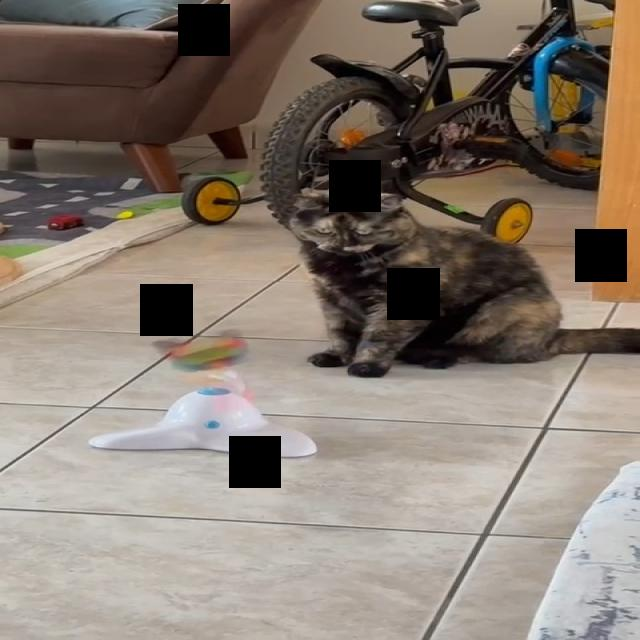authorized: (286, 186, 638, 378)
